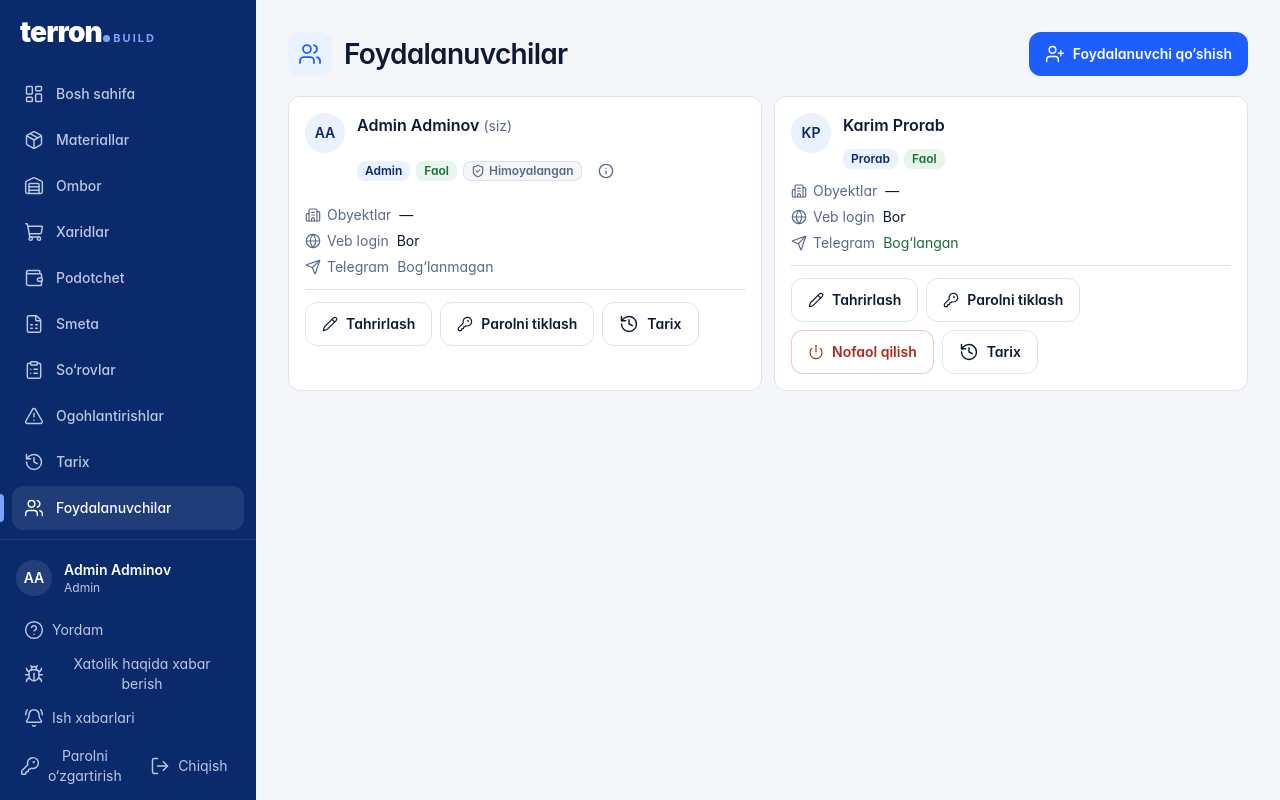
Test case: /users — foydalanuvchi qo‘shish formasi › bo‘sh forma — xatolar, repo chaqirilmaydi
The width and height of the screenshot is (1280, 800).
Expected: the text "Karim Prorab" is shown, [843,115,945,135]
Click the button "Foydalanuvchi qo‘shish".
click(1138, 54)  # box [1029,32,1248,76]
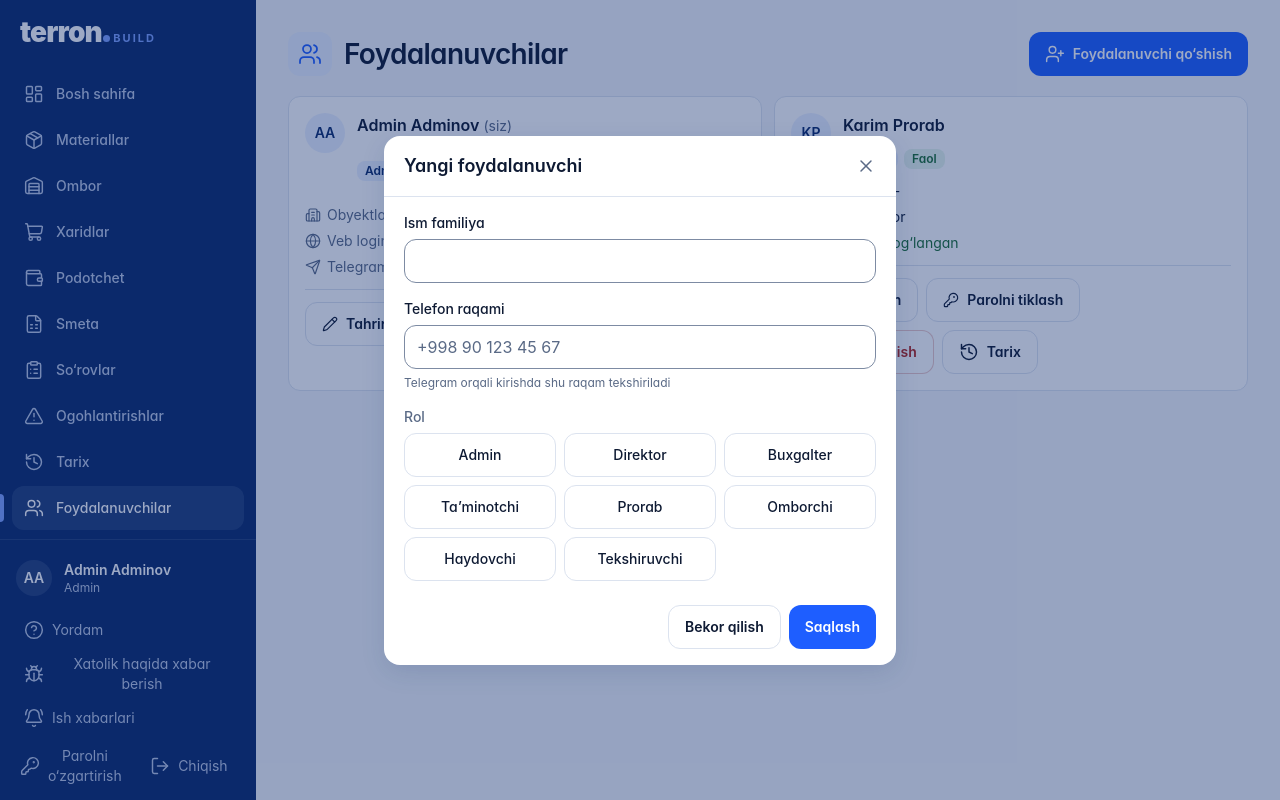
Click the button "Saqlash".
click(832, 626)  # box [789,604,876,648]
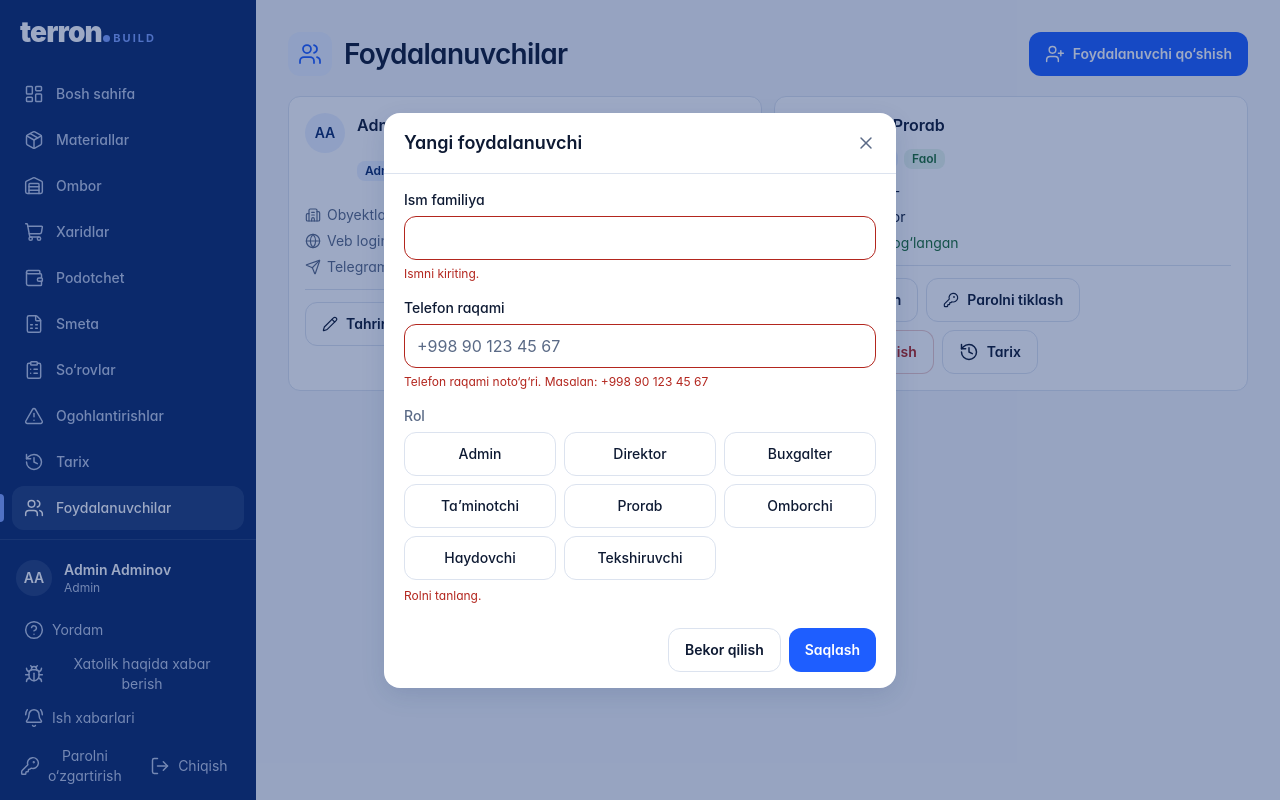
Expected: the text "Ismni kiriting." is shown, [404,266,479,280]
Expected: the text "Telefon raqami noto‘g‘ri. Masalan: +998 90 123 45 67" is shown, [404,374,708,388]
Expected: the text "Rolni tanlang." is shown, [404,588,481,602]
